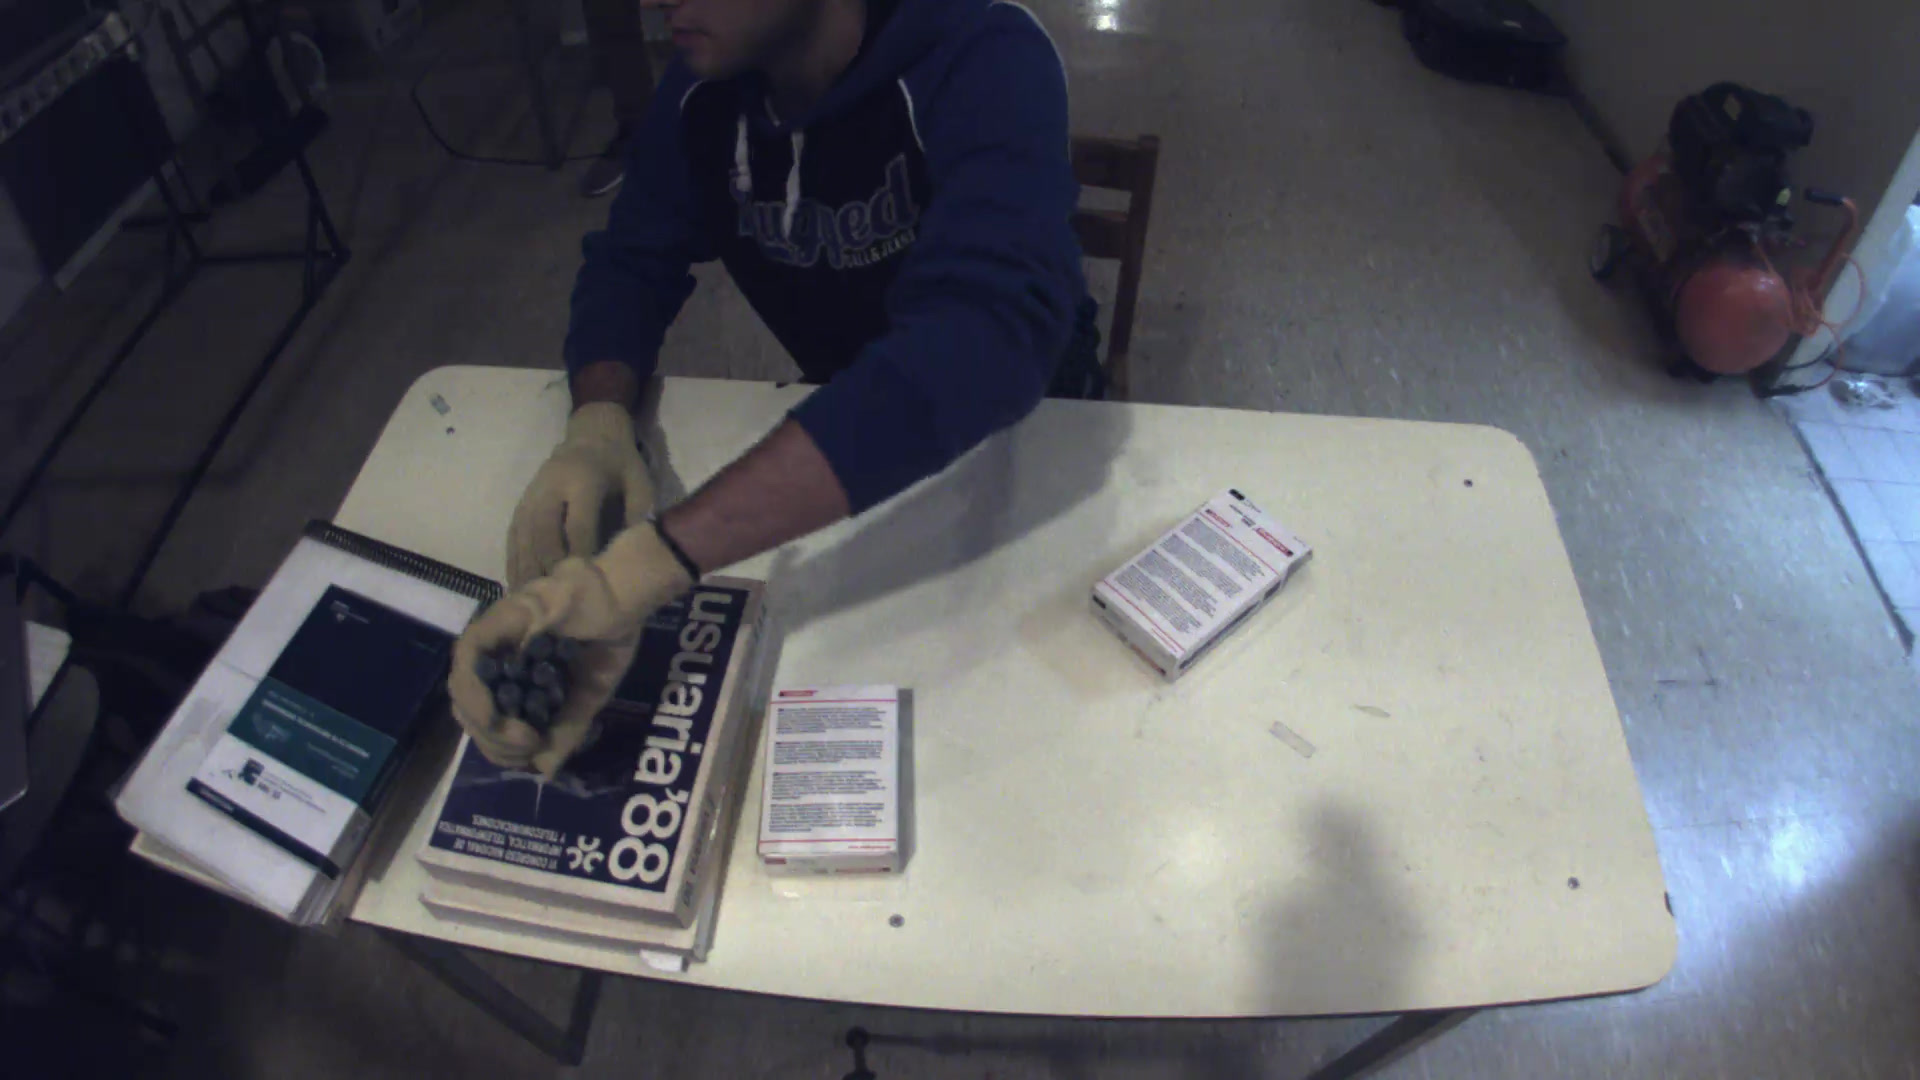hand: (429, 526, 728, 808), (491, 407, 666, 564)
